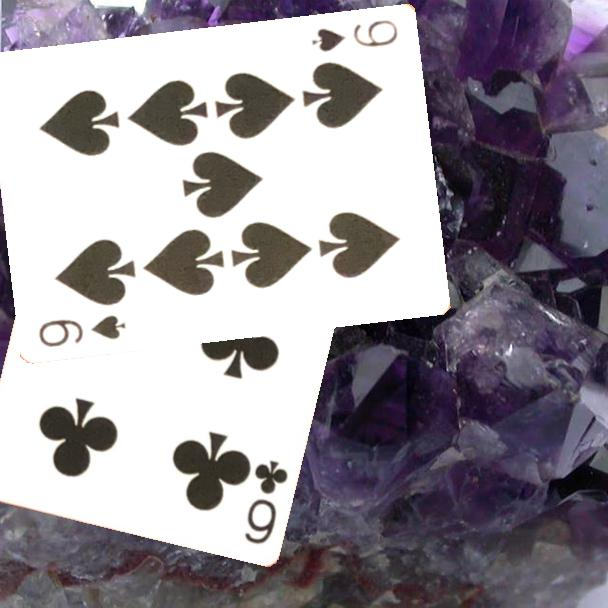c06: (241, 456, 291, 547)
s09: (35, 310, 129, 349), (309, 16, 401, 54)
